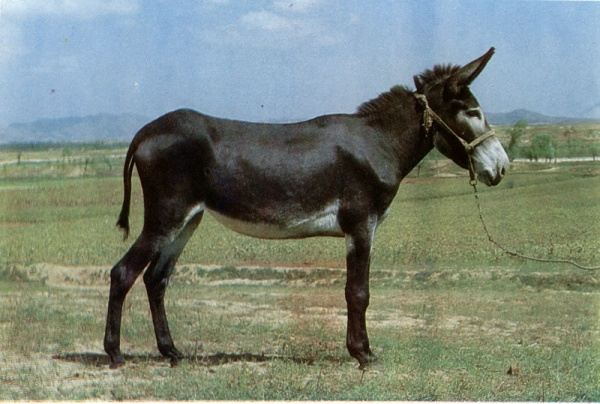background: (103, 47, 513, 374)
